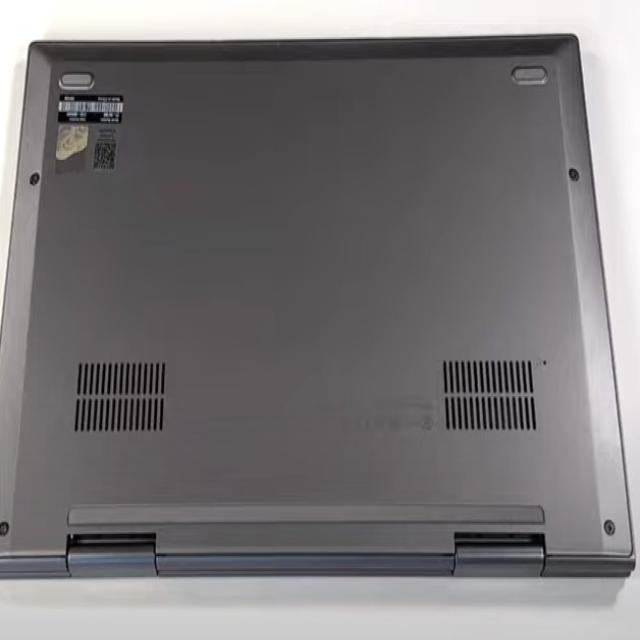outerscrew: (603, 510, 618, 538), (0, 513, 10, 544), (568, 162, 582, 182), (29, 173, 42, 187)
